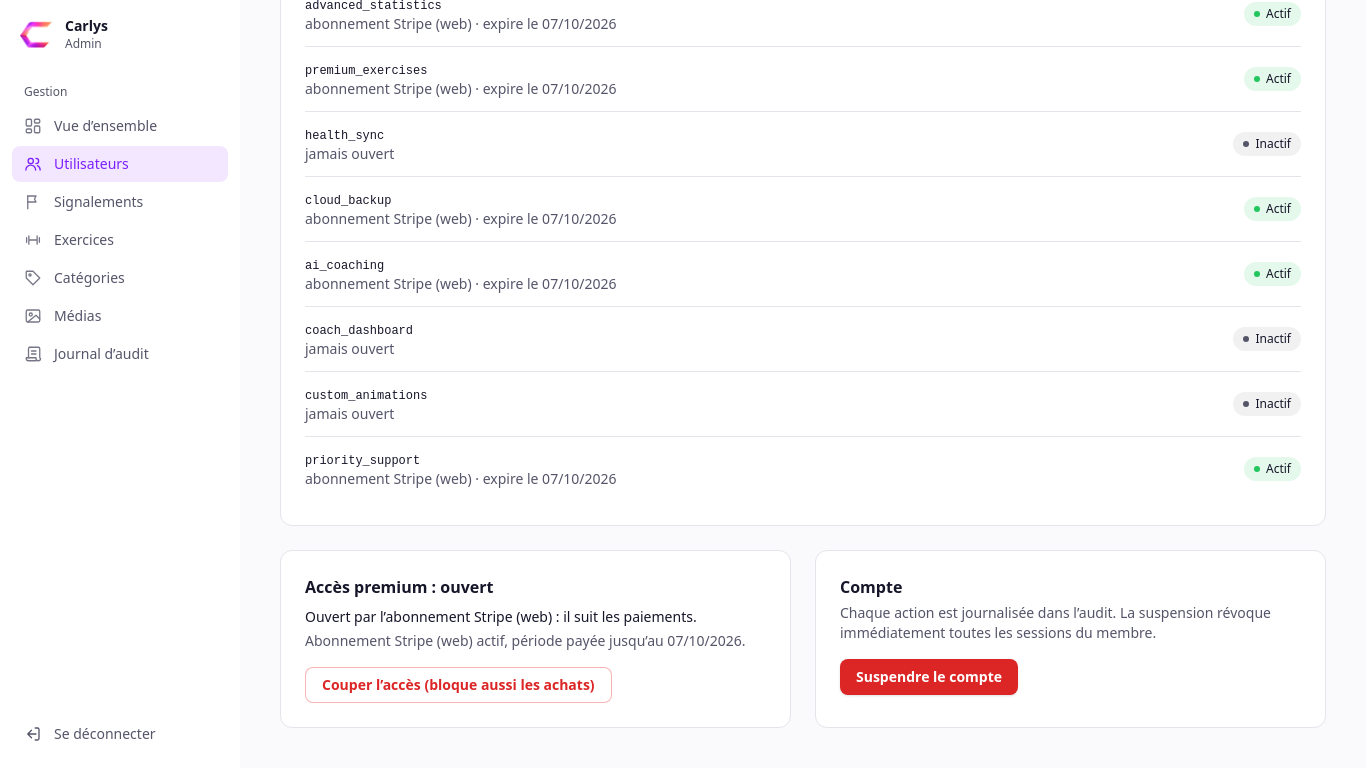
Scenario: Fiche utilisateur › accès premium › une coupure interrompue : la fiche relit le serveur et montre ce qui a changé
(page scrolled)
Click the button "Couper l’accès (bloque aussi les achats)" at (458, 685), box [305,667,612,703]
(page scrolled)
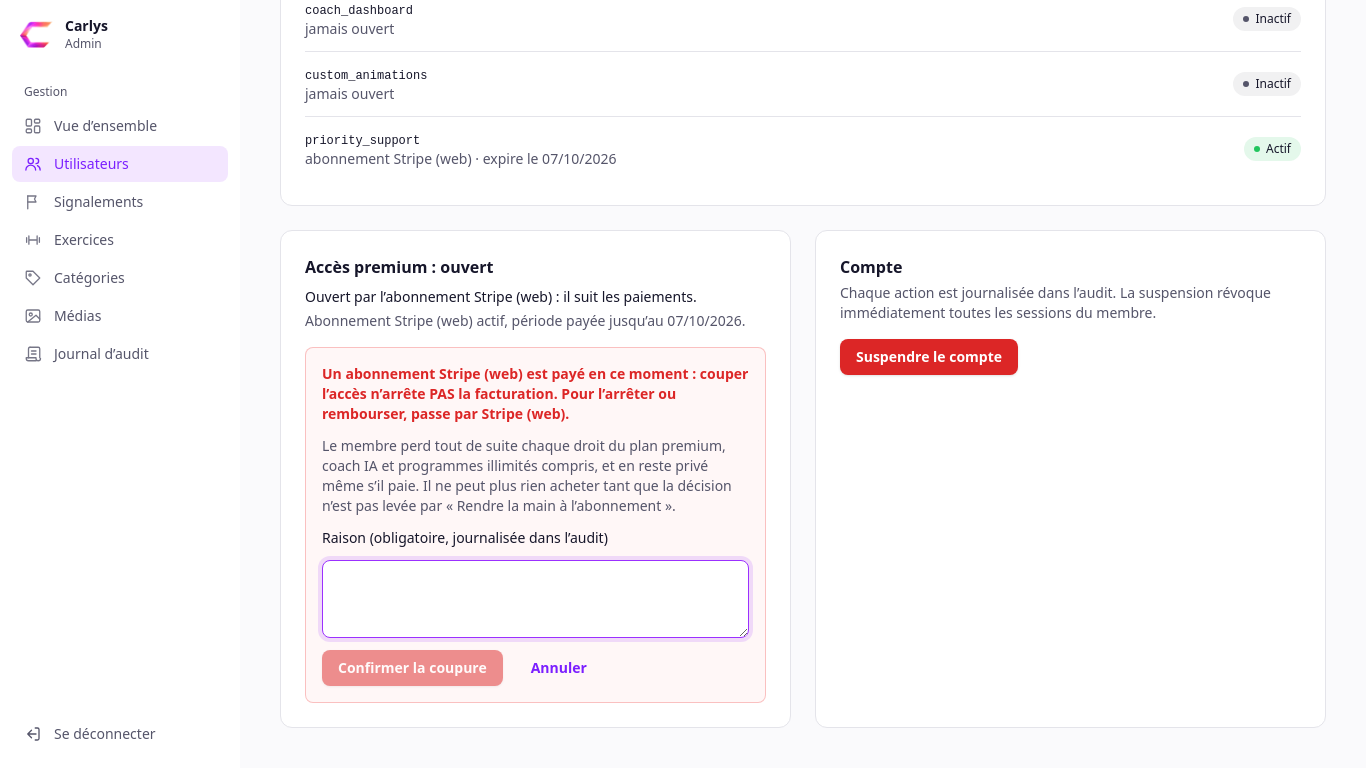
Type "Fraude" into the text box labelled "Raison (obligatoire, journalisée dans l’audit)" at (536, 599), box [322,560,749,638]
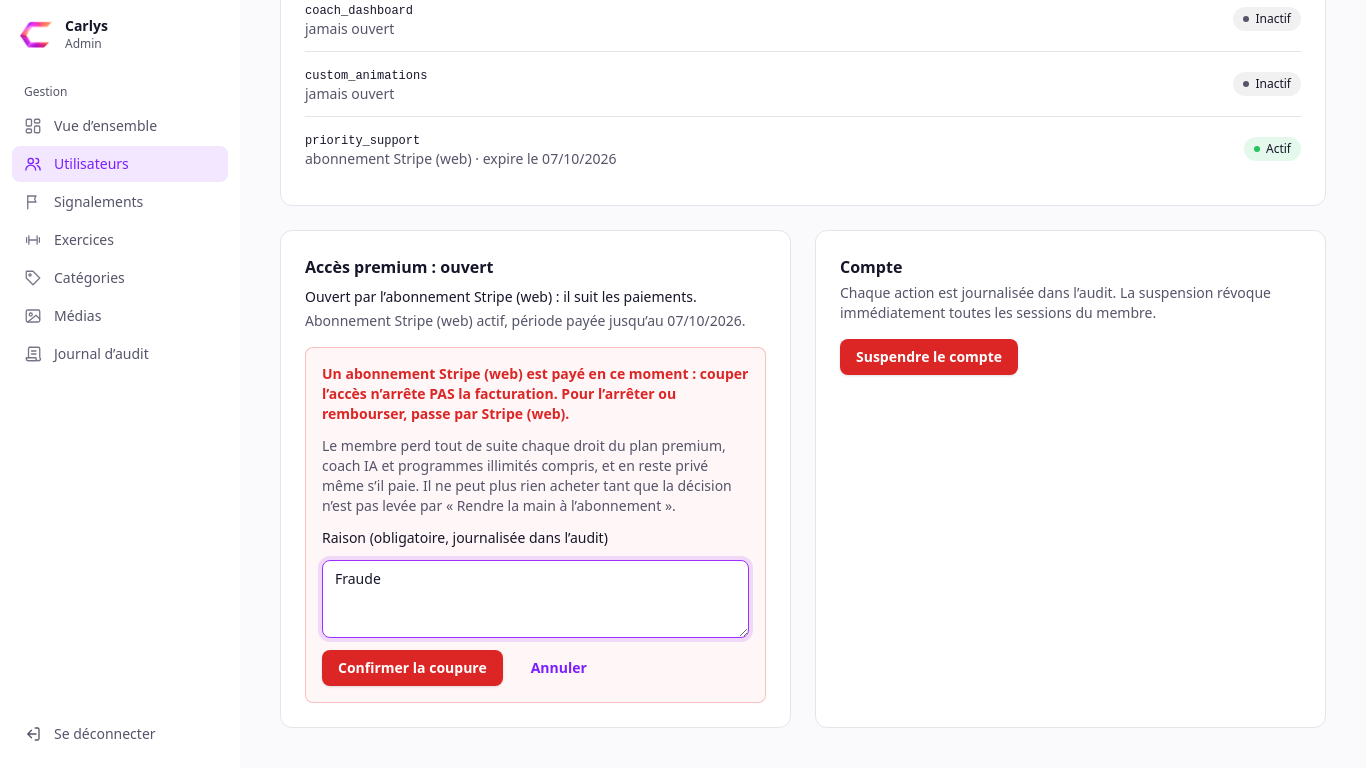
Click the button "Confirmer la coupure" at (412, 668), box [322,650,503,686]
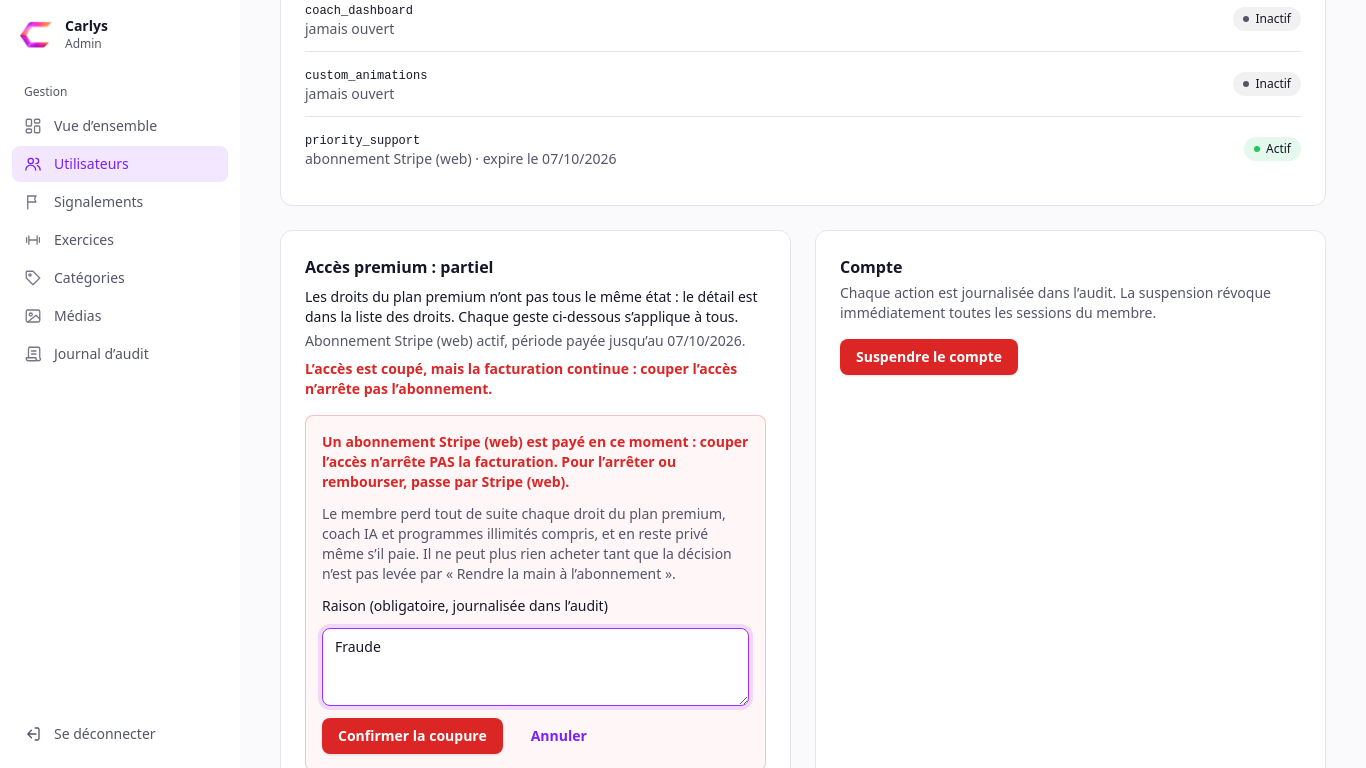
Now the heading "Accès premium : partiel" is shown, box [305,256,494,278]
